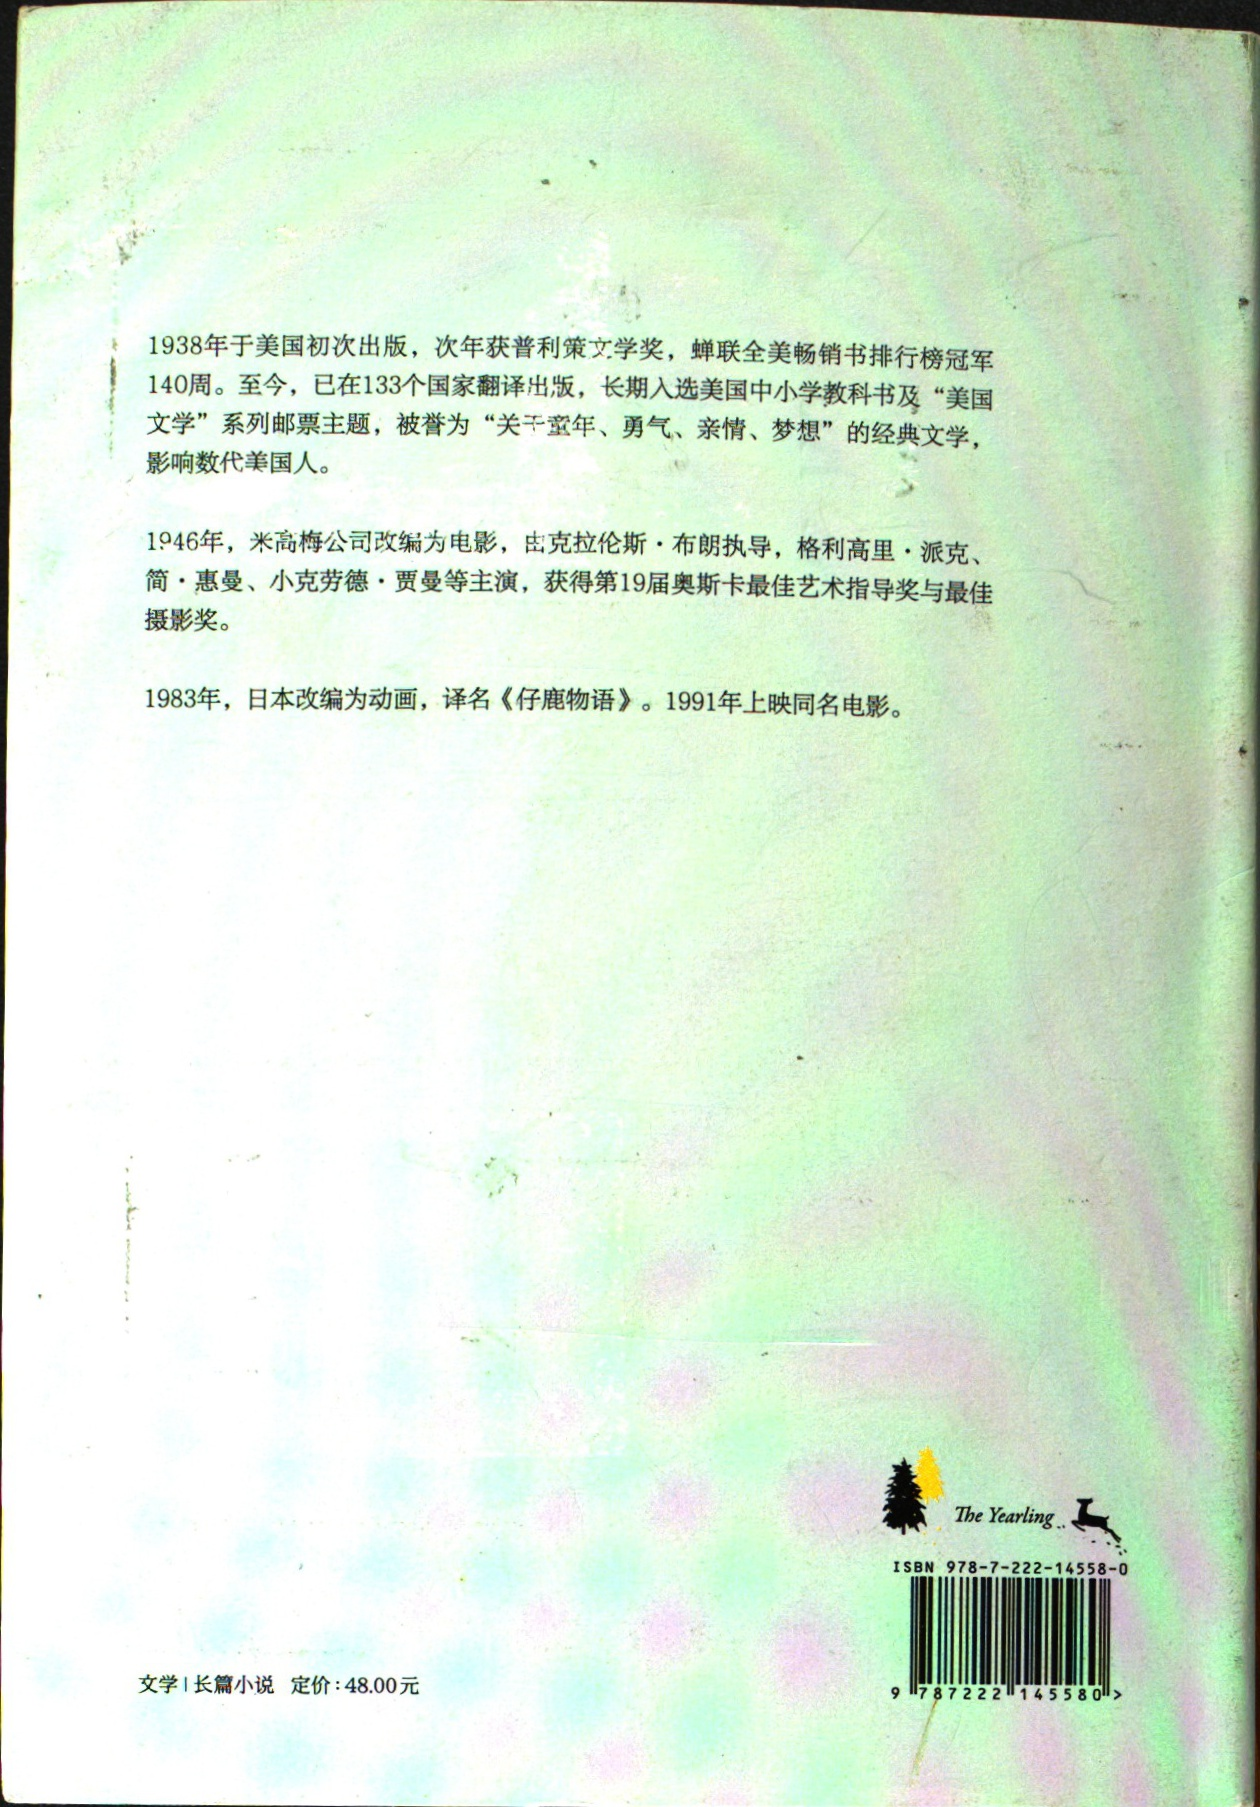barcode: (894, 1542, 1136, 1704)
